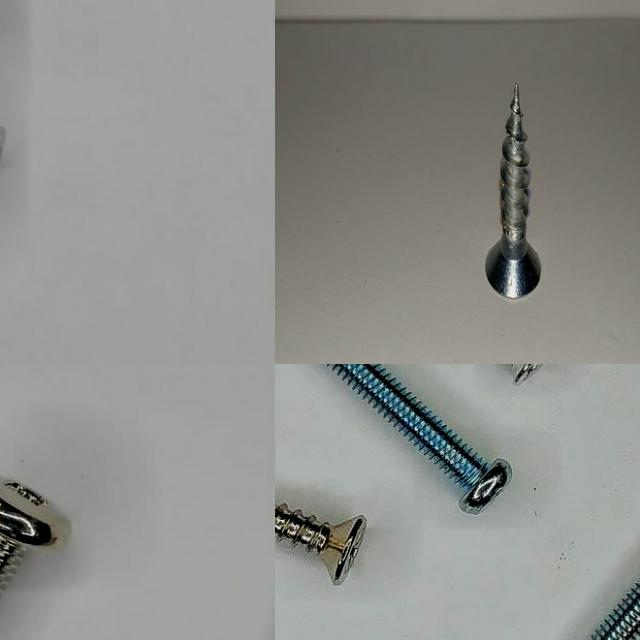Screw: (327, 364, 511, 513), (485, 82, 541, 298), (0, 478, 69, 592), (275, 502, 366, 585)
